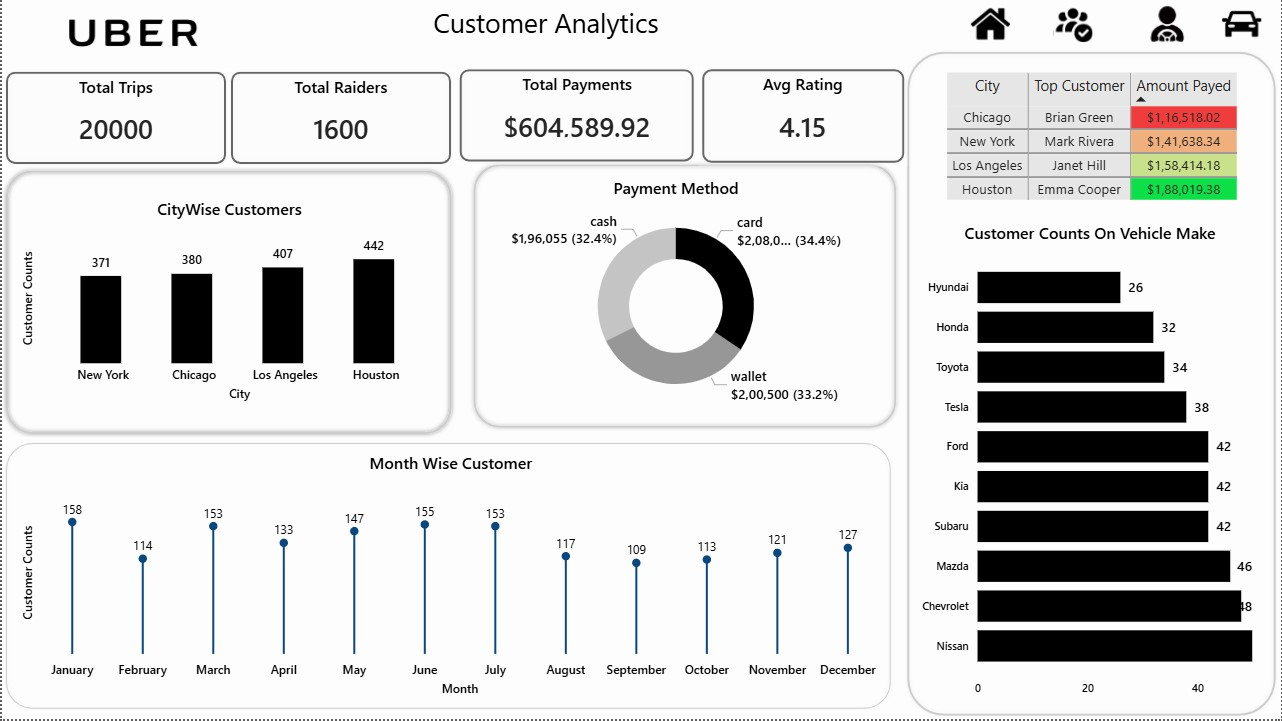

What the dashboard file says about the page in this screenshot:
{"tool":"powerbi","page":{"name":"Customer","canvas":[1280,720],"ordinal":1},"visuals":[{"type":"actionButton","box":[951.7,1.4,74.3,47.3],"z":0,"group":"g9"},{"type":"group","id":"g1","title":"Group 10","box":[901.2,48.3,376.4,672],"z":0},{"type":"shape","box":[453.6,66.8,241.9,100.1],"z":0,"group":"g7"},{"type":"shape","box":[695.7,66.8,209.9,101.5],"z":0,"group":"g8"},{"type":"shape","box":[0,68.2,228,100.1],"z":0,"group":"g2"},{"type":"shape","box":[225.4,68.2,228,100.1],"z":0,"group":"g6"},{"type":"shape","box":[0,167.7,453.6,271.4],"z":500,"group":"g3"},{"type":"textbox","box":[148.9,0,790.3,48.7],"z":1000},{"type":"actionButton","box":[1034.1,0,74.3,47.3],"z":1000,"group":"g9"},{"type":"cardVisual","title":"Total Payments","fields":{"Data":["cancellations.Total_Payments1"]},"box":[465.6,74.3,217.9,81.7],"z":1000,"group":"g7"},{"type":"cardVisual","title":"Avg Rating","fields":{"Data":["cancellations.Avgrage_Rating"]},"box":[706.1,74.5,189.1,82.9],"z":1000,"group":"g8"},{"type":"cardVisual","title":"Total Trips","fields":{"Data":["cancellations.Total_Trips"]},"box":[11.3,75.7,205.3,81.7],"z":1000,"group":"g2"},{"type":"cardVisual","title":"Total Raiders","fields":{"Data":["cancellations.Total_Customers"]},"box":[236.7,75.7,205.3,81.7],"z":1000,"group":"g6"},{"type":"clusteredColumnChart","title":"CityWise Customers","fields":{"Category":["users.city"],"Y":["cancellations.Total_Customers"]},"box":[15.7,199.1,422.3,208.7],"z":1000,"group":"g3"},{"type":"shape","box":[901.2,48.3,376.4,672],"z":1500,"group":"g10"},{"type":"shape","box":[468,161.6,430.7,271.4],"z":1500,"group":"g4"},{"type":"actionButton","box":[1129.2,1.2,72.9,47.5],"z":2000,"group":"g9"},{"type":"group","id":"g2","title":"Group 2","box":[0,68.2,228.2,100.2],"z":2000},{"type":"donutChart","title":"Payment Method","fields":{"Category":["payments.method"],"Y":["cancellations.customer_payments_counts"]},"box":[493.4,177.4,363.1,237.7],"z":2000,"group":"g4"},{"type":"clusteredBarChart","title":"Customer Counts On Vehicle Make","fields":{"Category":["drivers.vehicle_make"],"Y":["riders.Vehiclewise Customer"]},"box":[914.2,221.7,348.7,483.8],"z":2750,"group":"g10"},{"type":"actionButton","box":[1202.4,1.4,74.3,47.3],"z":3000,"group":"g9"},{"type":"group","id":"g3","title":"Group 7","box":[0,167.7,453.6,271.4],"z":3000},{"type":"tableEx","fields":{"Values":["users.city","cancellations.top Customer","cancellations.customer_payments_counts"]},"box":[938.5,68.8,307.5,146.1],"z":4000,"group":"g10"},{"type":"group","id":"g4","title":"Group 8","box":[468,161.6,430.7,271.4],"z":4000},{"type":"group","id":"g5","title":"Group 9","box":[0,440.4,892.8,273.9],"z":5000},{"type":"group","id":"g6","title":"Group 2","box":[225.4,68.2,228.2,100.2],"z":6000},{"type":"group","id":"g7","title":"Group 2","box":[453.6,66.8,242.1,100.2],"z":7000},{"type":"group","id":"g8","title":"Group 2","box":[695.7,66.8,210.1,101.6],"z":8000},{"type":"group","id":"g9","title":"Group 1","box":[951.7,0,325.6,48.7],"z":9000},{"type":"image","box":[11.1,1.4,240.7,65.4],"z":10000},{"type":"shape","box":[0,440.4,892.8,273.9],"z":10000,"group":"g5"},{"type":"lineChart","title":"Month Wise Customer","fields":{"Category":["riders.created_at.Variation.Date Hierarchy.Month"],"Y":["cancellations.Total_Customers"]},"box":[15.7,452.5,865,249.7],"z":11001,"group":"g5"},{"type":"group","id":"g10","title":"Group 6","box":[901.2,48.3,376.4,672],"z":11004,"group":"g1"}]}

Visuals, with their boxes in screenshot pixels (x1, y1, x2, y2), scaled from the page's 1280x720 canvas onto the 1282x721 screenshot:
actionButton: rect(953, 1, 1028, 49)
"Group 10" group: rect(903, 48, 1280, 720)
shape: rect(454, 67, 697, 167)
shape: rect(697, 67, 907, 169)
shape: rect(0, 68, 228, 169)
shape: rect(226, 68, 454, 169)
shape: rect(0, 168, 454, 440)
textbox: rect(149, 0, 941, 49)
actionButton: rect(1036, 0, 1110, 47)
"Total Payments" cardVisual: rect(466, 74, 685, 156)
"Avg Rating" cardVisual: rect(707, 75, 897, 158)
"Total Trips" cardVisual: rect(11, 76, 217, 158)
"Total Raiders" cardVisual: rect(237, 76, 443, 158)
"CityWise Customers" clusteredColumnChart: rect(16, 199, 439, 408)
shape: rect(903, 48, 1280, 720)
shape: rect(469, 162, 900, 434)
actionButton: rect(1131, 1, 1204, 49)
"Group 2" group: rect(0, 68, 229, 169)
"Payment Method" donutChart: rect(494, 178, 858, 416)
"Customer Counts On Vehicle Make" clusteredBarChart: rect(916, 222, 1265, 706)
actionButton: rect(1204, 1, 1279, 49)
"Group 7" group: rect(0, 168, 454, 440)
tableEx - users.city x cancellations.top Customer: rect(940, 69, 1248, 215)
"Group 8" group: rect(469, 162, 900, 434)
"Group 9" group: rect(0, 441, 894, 715)
"Group 2" group: rect(226, 68, 454, 169)
"Group 2" group: rect(454, 67, 697, 167)
"Group 2" group: rect(697, 67, 907, 169)
"Group 1" group: rect(953, 0, 1279, 49)
image: rect(11, 1, 252, 67)
shape: rect(0, 441, 894, 715)
"Month Wise Customer" lineChart: rect(16, 453, 882, 703)
"Group 6" group: rect(903, 48, 1280, 720)
